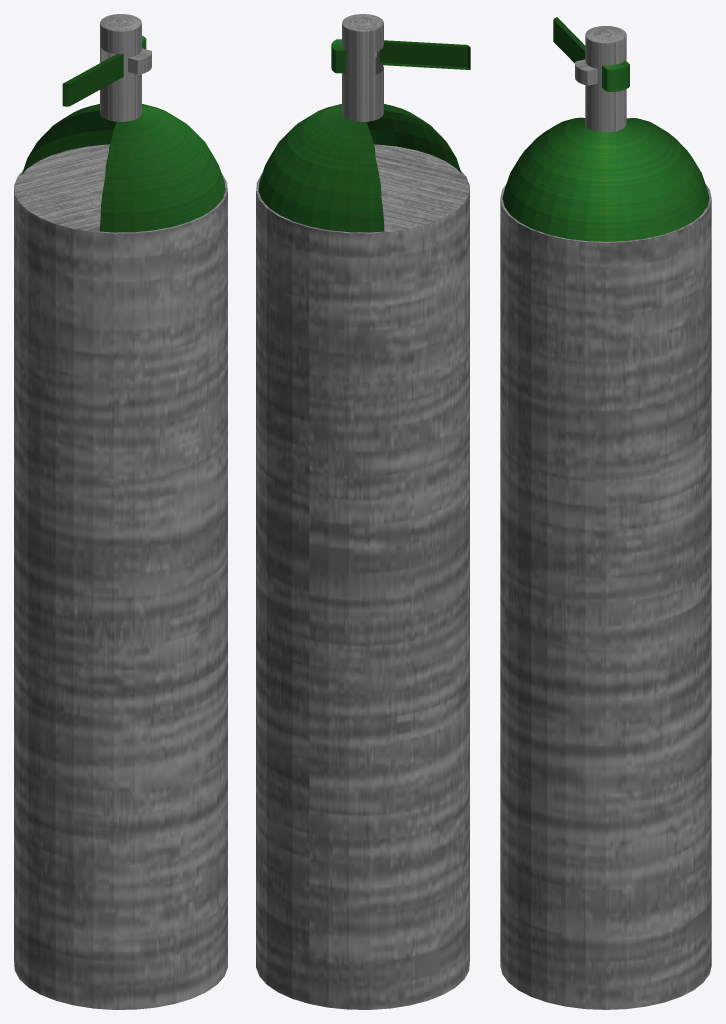
File: Tanque_oxigeno.fbx
3 renders of one model, left to right at view 1: azimuth 30°, elevation 25°; view 2: azimuth 150°, elevation 25°; view 3: azimuth 270°, elevation 25°, orthographic.
Parts seen in each view (by area): view 1: Sphere; view 2: Sphere; view 3: Sphere.
Part boxes in pixels (x1,y1,x2,y2): Sphere: [14, 14, 227, 1009]; Sphere: [256, 14, 470, 1009]; Sphere: [500, 17, 711, 1009].
Size of the model in its own units: 100 by 486 by 100.
